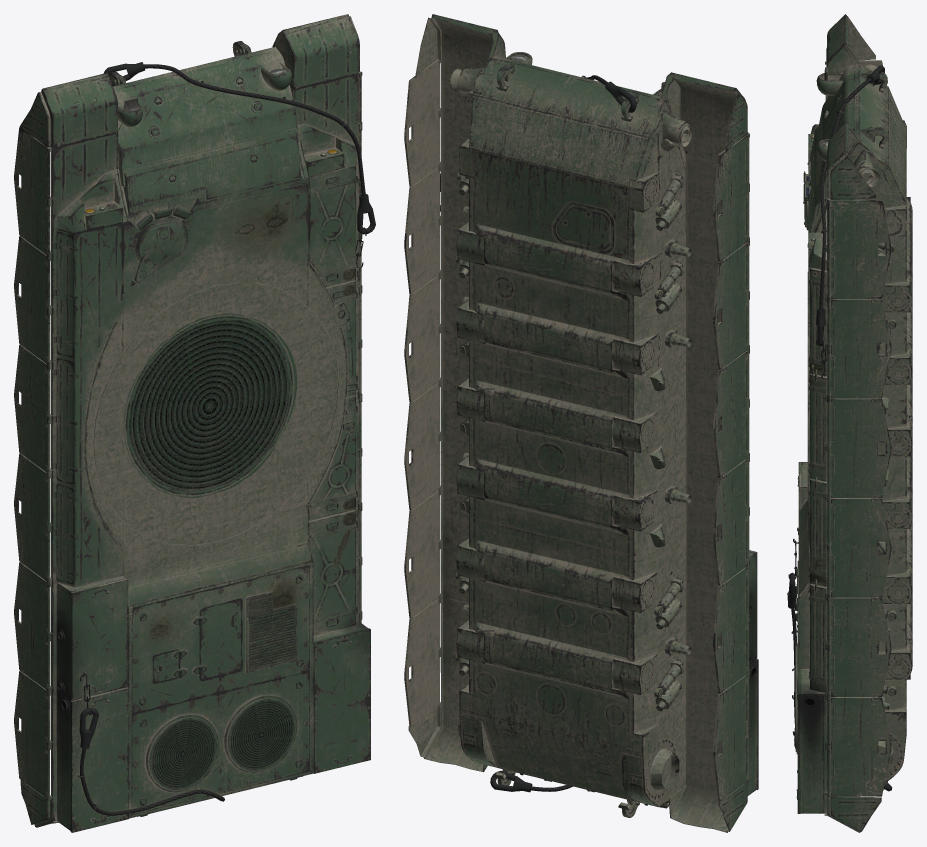
File: Hull.glb
3 renders of one model, left to right at view 1: azimuth 30°, elevation 25°; view 2: azimuth 150°, elevation 25°; view 3: azimuth 270°, elevation 25°, orthographic. The views are drawn at different scales.
Parts seen in each view (by area): view 1: set_0_group_0; view 2: set_0_group_0; view 3: set_0_group_0.
Boxes of the visible parts, x1,y1,x2,y2 form: set_0_group_0: [14, 14, 375, 832]; set_0_group_0: [404, 14, 758, 832]; set_0_group_0: [787, 14, 912, 832].
Bounding box in the file's own units: 3.64 × 7.97 × 1.32.
Materials: 1 (1 with a texture image).
